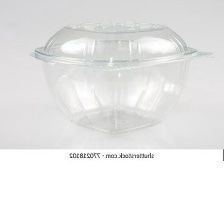plastic_box: (25, 13, 220, 139)
